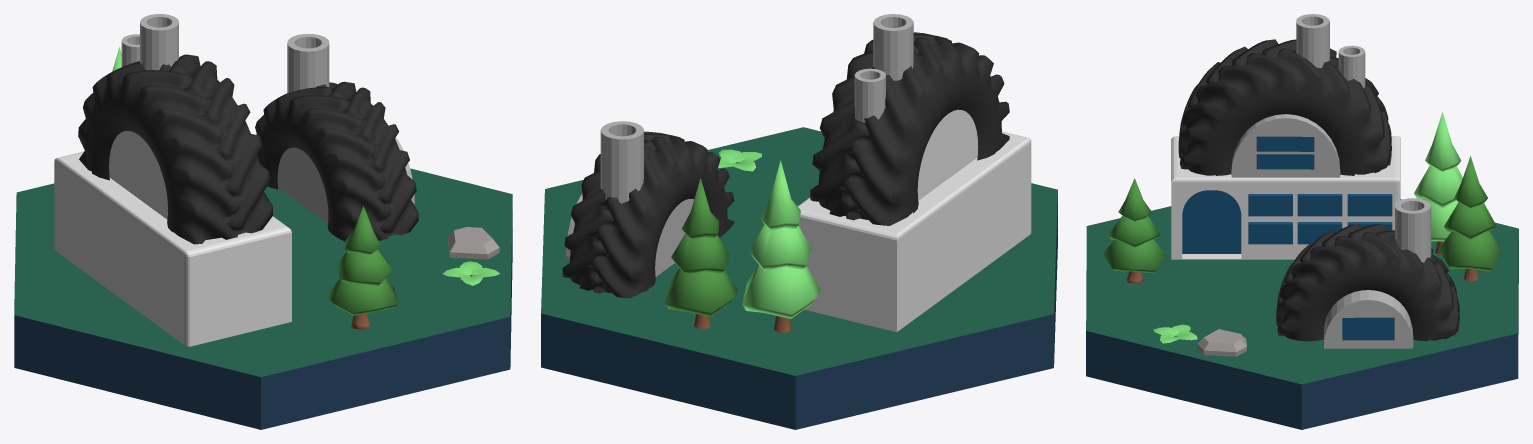
Rendered from Macro - transportation factory lv3.fbx.
3 renders of one model, left to right at view 1: azimuth 30°, elevation 25°; view 2: azimuth 150°, elevation 25°; view 3: azimuth 270°, elevation 25°, orthographic. The views are drawn at different scales.
Visible parts, largest first — view 1: Cylinder.154, Cube.002, Cylinder.018, Cylinder.007, Tree_Spruce_tiny_01.001, Cylinder.020, Cylinder.006, Cylinder.003, Cylinder.011, Rock Type4 04 mesh.001, Plane.001, Cylinder.004; view 2: Cylinder.154, Cube.002, Cylinder.018, Cylinder.007, Tree_Spruce_tiny_01.002, Tree_Spruce_tiny_01.003, Cylinder.020, Cylinder.003, Cylinder.011, Cylinder.004, Cylinder.006, Plane.001; view 3: Cylinder.154, Cylinder.018, Cylinder.007, Cube.002, Tree_Spruce_tiny_01.003, Cylinder.016, Cube.008, Tree_Spruce_tiny_01.001, Cylinder.015, Tree_Spruce_tiny_01.002, Cylinder.003, Cylinder.011 (+11 smaller).
Boxes of the visible parts, x1,y1,x2,y2 form: Cylinder.154: (14, 134, 512, 429); Cube.002: (54, 151, 291, 346); Cylinder.018: (78, 54, 272, 244); Cylinder.007: (255, 81, 418, 241); Tree_Spruce_tiny_01.001: (327, 206, 398, 329); Cylinder.020: (109, 131, 167, 219); Cylinder.006: (277, 147, 328, 223); Cylinder.003: (287, 34, 329, 93); Cylinder.011: (140, 14, 178, 70); Rock Type4 04 mesh.001: (448, 227, 499, 259); Plane.001: (442, 261, 499, 285); Cylinder.004: (121, 34, 139, 66); Cylinder.154: (541, 127, 1057, 429); Cube.002: (798, 131, 1031, 332); Cylinder.018: (810, 32, 1009, 225); Cylinder.007: (562, 131, 734, 298); Tree_Spruce_tiny_01.002: (742, 160, 820, 332); Tree_Spruce_tiny_01.003: (664, 178, 737, 329); Cylinder.020: (917, 109, 978, 200); Cylinder.003: (600, 121, 643, 203); Cylinder.011: (873, 14, 913, 80); Cylinder.004: (854, 68, 885, 122); Cylinder.006: (655, 199, 694, 276); Plane.001: (718, 149, 761, 171); Cylinder.154: (1086, 199, 1518, 429); Cylinder.018: (1178, 39, 1391, 175); Cylinder.007: (1276, 224, 1459, 341); Cube.002: (1171, 136, 1400, 259); Tree_Spruce_tiny_01.003: (1439, 156, 1501, 281); Cylinder.016: (1231, 114, 1340, 177); Cube.008: (1182, 190, 1241, 253); Tree_Spruce_tiny_01.001: (1103, 178, 1165, 283); Cylinder.015: (1324, 290, 1413, 348); Tree_Spruce_tiny_01.002: (1414, 112, 1462, 254); Cylinder.003: (1395, 198, 1431, 262); Cylinder.011: (1296, 14, 1329, 67).
Size of the model in its own units: 197 by 115 by 172.
